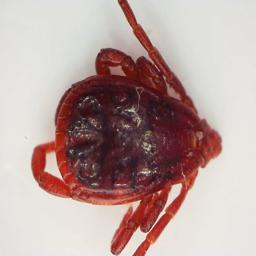Rhipicephalus sanguineus: (31, 0, 222, 256)
